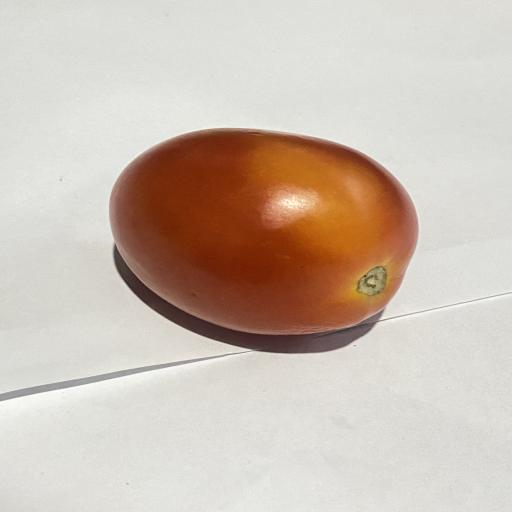ripe: (110, 129, 418, 334)
